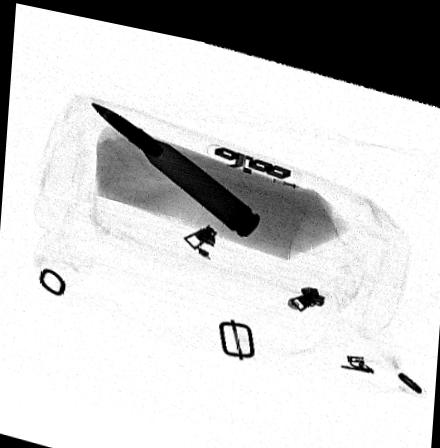Bullet: (87, 95, 261, 227)
